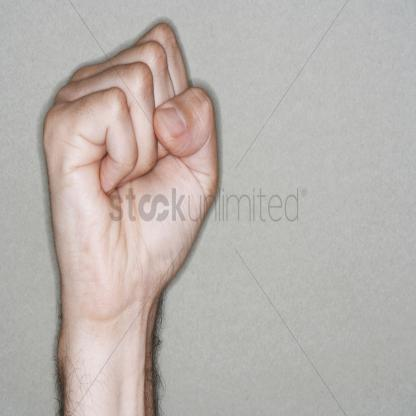fist: (25, 14, 243, 295)
